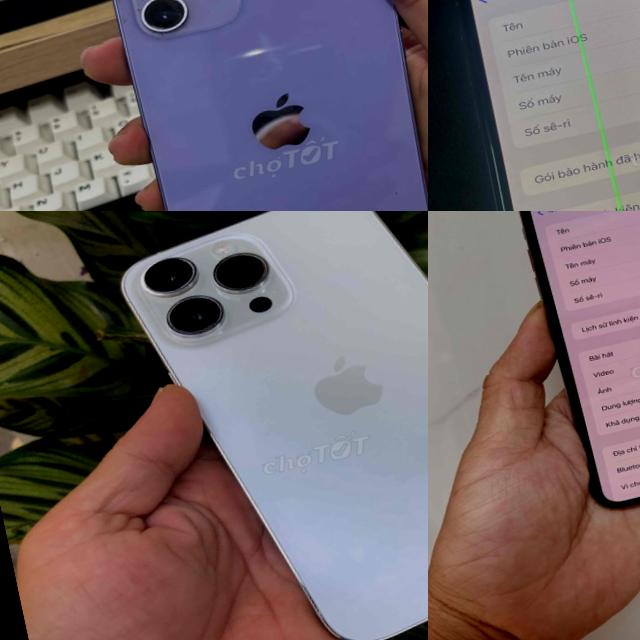gen_12_13: (90, 0, 428, 211)
gen_14: (100, 211, 428, 640)
gen_x_xs: (503, 211, 640, 522), (446, 0, 640, 211)
